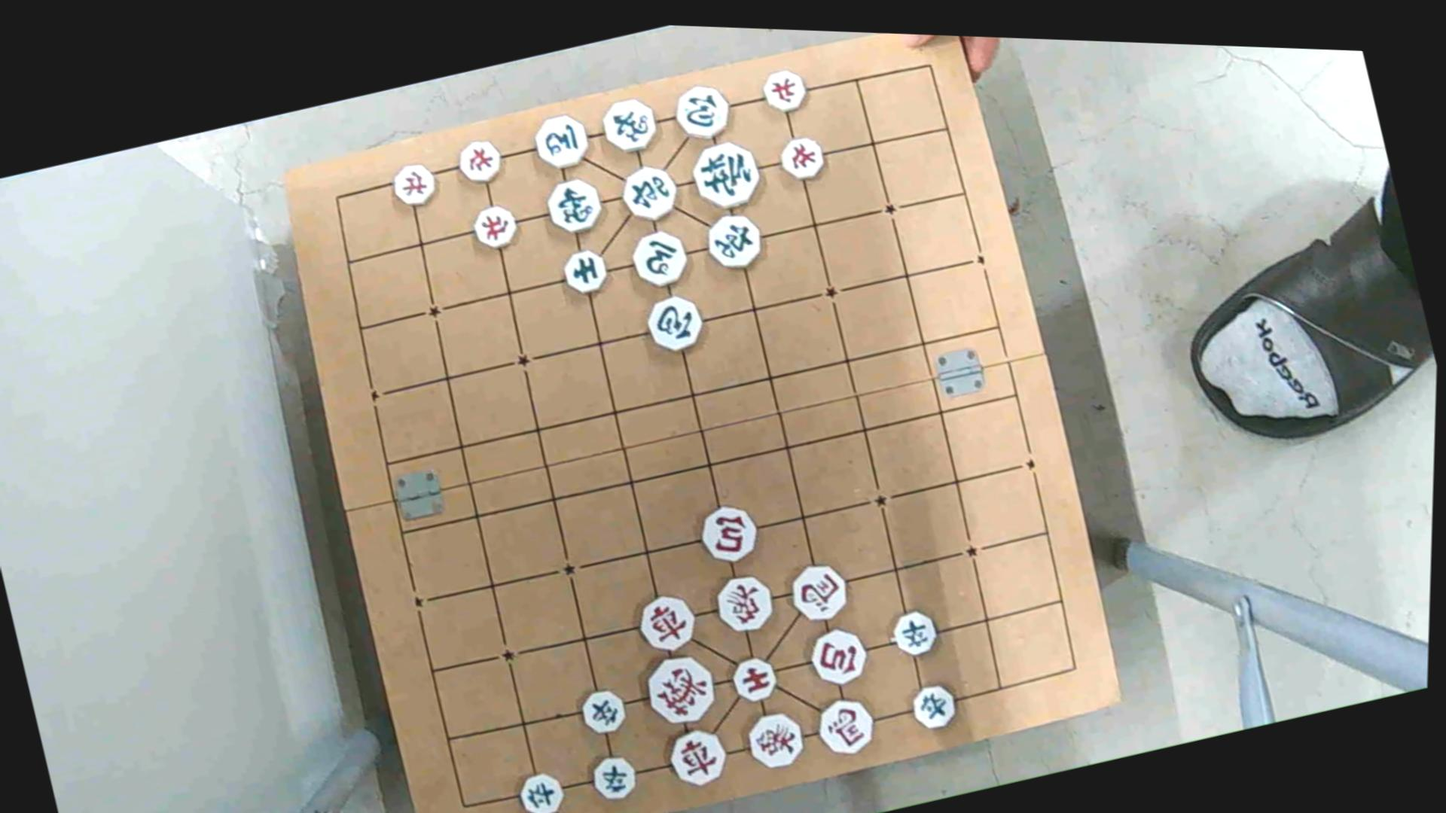cha_green: (700, 206, 767, 276), (616, 160, 685, 225)
cha_red: (633, 591, 703, 658), (660, 725, 731, 791)
jol_green: (884, 606, 941, 659), (577, 684, 631, 739), (907, 680, 962, 734), (587, 751, 639, 805), (514, 769, 570, 813)
jol_red: (756, 64, 812, 122), (383, 155, 442, 210), (451, 134, 509, 189), (468, 199, 525, 254), (775, 131, 829, 186)
ma_green: (628, 227, 694, 292), (529, 111, 597, 173)
ma_red: (782, 560, 853, 626), (814, 693, 883, 759)
po_green: (639, 288, 709, 358), (670, 82, 737, 145)
po_red: (806, 625, 874, 691), (695, 502, 763, 567)
sa_green: (559, 243, 613, 297)
sa_red: (728, 654, 783, 708)
sang_green: (541, 175, 606, 238), (598, 94, 661, 157)
sang_red: (707, 568, 782, 641), (742, 706, 810, 776)
wang_green: (685, 134, 769, 214)
wang_red: (637, 653, 724, 732)
